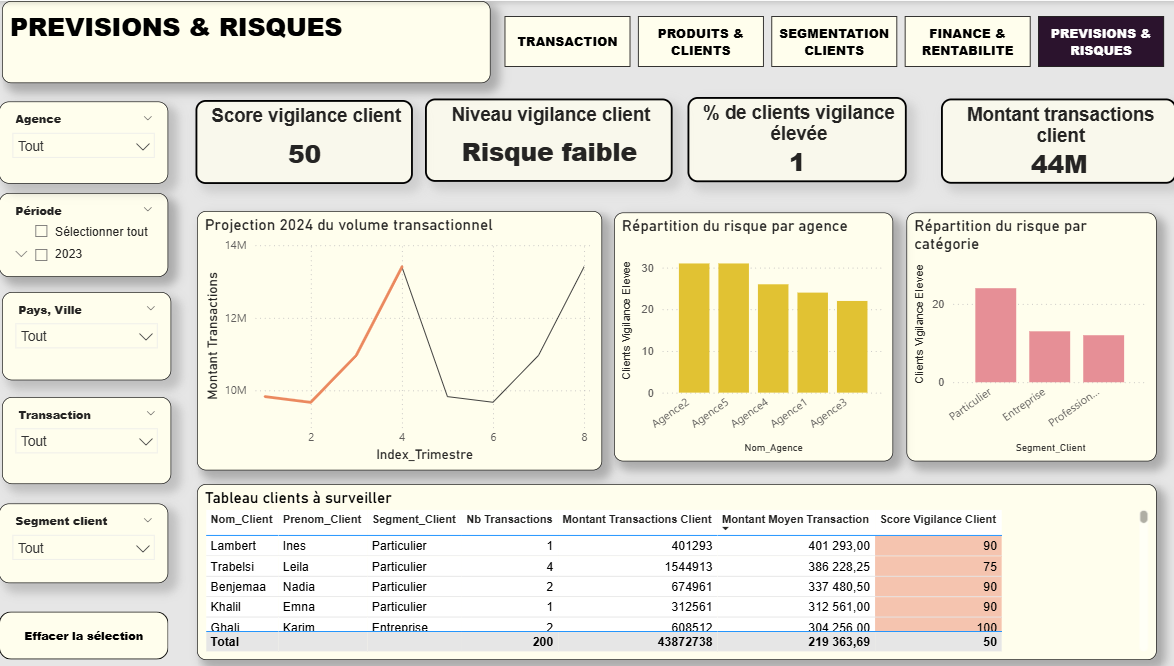

The page's visual inventory and layout, read from the dashboard file:
{"tool":"powerbi","page":{"name":"PREVISIONS & RISQUES","canvas":[1280,720],"ordinal":5},"visuals":[{"type":"textbox","box":[12.9,0,527.1,88.6],"z":0},{"type":"clusteredColumnChart","title":"Répartition du risque par catégorie","fields":{"Category":["DIM_CLIENT.Segment_Client"],"Y":["DIM_CLIENT.Clients Vigilance Elevee"]},"box":[988.6,228.6,270,268.6],"z":1000},{"type":"slicer","fields":{"Values":["DIM_DATE.Annee","DIM_DATE.Trimestre","DIM_DATE.Nom_Mois","DIM_DATE.Jour_Numero"]},"box":[9.7,207.3,183,90.7],"z":2000},{"type":"slicer","title":"NOM AGENCE","fields":{"Values":["DIM_AGENCE.Nom_Agence"]},"box":[10,108.6,182.9,88.6],"z":3000},{"type":"slicer","title":"NOM AGENCE","fields":{"Values":["DIM_AGENCE.Pays","DIM_AGENCE.Ville"]},"box":[13,314.1,183,95.5],"z":4000},{"type":"pageNavigator","box":[555.7,15.7,712.9,55.7],"z":5000},{"type":"slicer","title":"NOM AGENCE","fields":{"Values":["DIM_TYPE_TRANSACTION.Type_Transaction"]},"box":[13,427.5,183,93.9],"z":6000},{"type":"actionButton","box":[9.7,659,183,51.8],"z":7000},{"type":"lineChart","title":"Projection 2024 du volume transactionnel","fields":{"Category":["DIM_DATE.Index_Trimestre"],"Y":["FACT_TRANSACTIONS.Montant Transactions"]},"box":[223.5,226.7,437.2,280.1],"z":9000},{"type":"card","title":"Score vigilance client","fields":{"Values":["DIM_CLIENT.Score Risque Client"]},"box":[221.8,106.9,234.8,90.7],"z":10000},{"type":"card","title":"Niveau vigilance client","fields":{"Values":["DIM_CLIENT.Niveau Risque Client"]},"box":[470,105,267.5,90],"z":11000},{"type":"card","title":"% de clients vigilance élevée","fields":{"Values":["DIM_CLIENT.% Clients Vigilance Elevee"]},"box":[752.9,103.6,236.4,92.3],"z":12000},{"type":"tableEx","title":"Tableau clients à surveiller","fields":{"Values":["DIM_CLIENT.Nom_Client","DIM_CLIENT.Prenom_Client","DIM_CLIENT.Segment_Client","FACT_TRANSACTIONS.Nb Transactions","DIM_CLIENT.Montant Transactions Client","FACT_TRANSACTIONS.Montant Moyen Transaction","DIM_CLIENT.Score Vigilance Client"]},"box":[222.9,521.4,1035.7,190],"z":13000},{"type":"clusteredColumnChart","title":"Répartition du risque par agence","fields":{"Category":["DIM_AGENCE.Nom_Agence"],"Y":["DIM_CLIENT.Clients Vigilance Elevee"]},"box":[673.6,228.3,301.2,268.8],"z":14000},{"type":"slicer","title":"NOM AGENCE","fields":{"Values":["DIM_CLIENT.Segment_Client"]},"box":[9.7,542.4,183,85.8],"z":15000},{"type":"card","title":"Montant transactions client","fields":{"Values":["DIM_CLIENT.Montant Transactions Client"]},"box":[1026.6,105.2,254.2,92.3],"z":16000}]}

Visuals, with their boxes in screenshot pixels (x1, y1, x2, y2), scaled from the page's 1280x720 canvas onto the 1174x666 screenshot:
textbox: Rect(12, 0, 495, 82)
"Répartition du risque par catégorie" clusteredColumnChart: Rect(907, 211, 1154, 460)
slicer - DIM_DATE.Annee x DIM_DATE.Trimestre: Rect(9, 192, 177, 276)
"NOM AGENCE" slicer: Rect(9, 100, 177, 182)
"NOM AGENCE" slicer: Rect(12, 291, 180, 379)
pageNavigator: Rect(510, 15, 1164, 66)
"NOM AGENCE" slicer: Rect(12, 395, 180, 482)
actionButton: Rect(9, 610, 177, 657)
"Projection 2024 du volume transactionnel" lineChart: Rect(205, 210, 606, 469)
"Score vigilance client" card: Rect(203, 99, 419, 183)
"Niveau vigilance client" card: Rect(431, 97, 676, 180)
"% de clients vigilance élevée" card: Rect(691, 96, 907, 181)
"Tableau clients à surveiller" tableEx: Rect(204, 482, 1154, 658)
"Répartition du risque par agence" clusteredColumnChart: Rect(618, 211, 894, 460)
"NOM AGENCE" slicer: Rect(9, 502, 177, 581)
"Montant transactions client" card: Rect(942, 97, 1173, 183)
